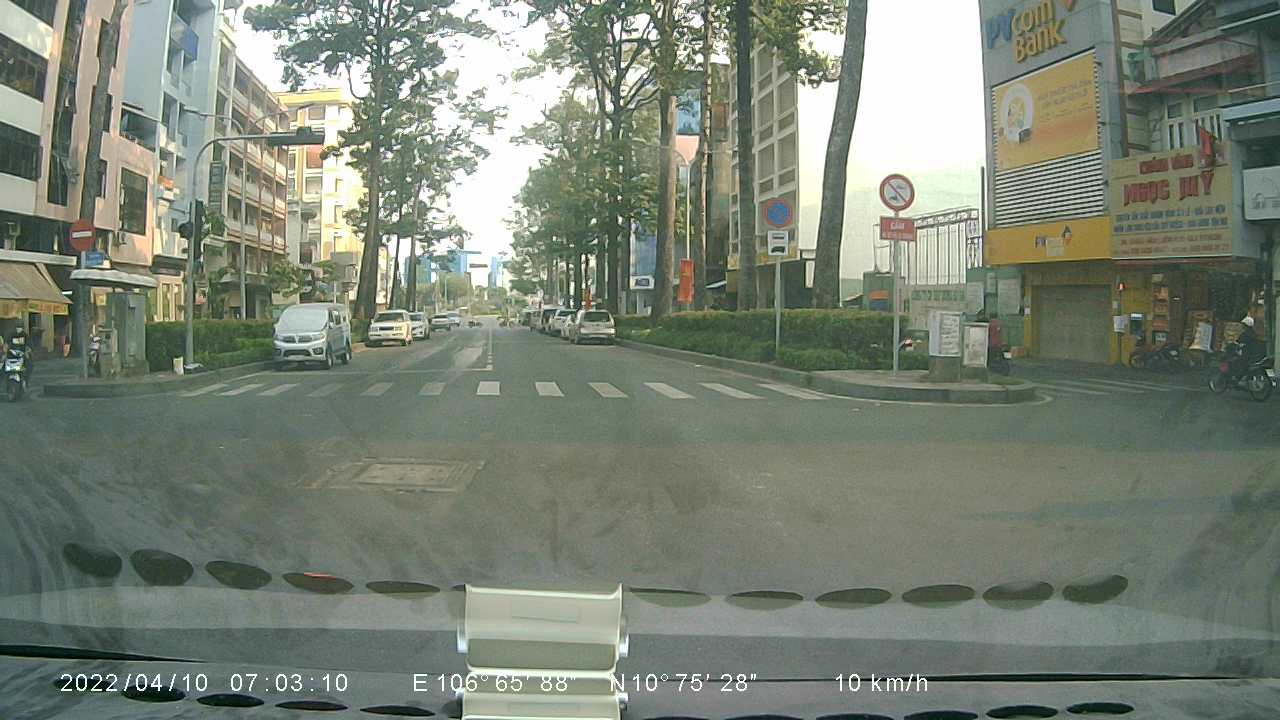Bien khac: (874, 172, 915, 210)
Cam di nguoc chieu: (68, 215, 94, 252)
Cam do xe: (757, 191, 792, 227)
